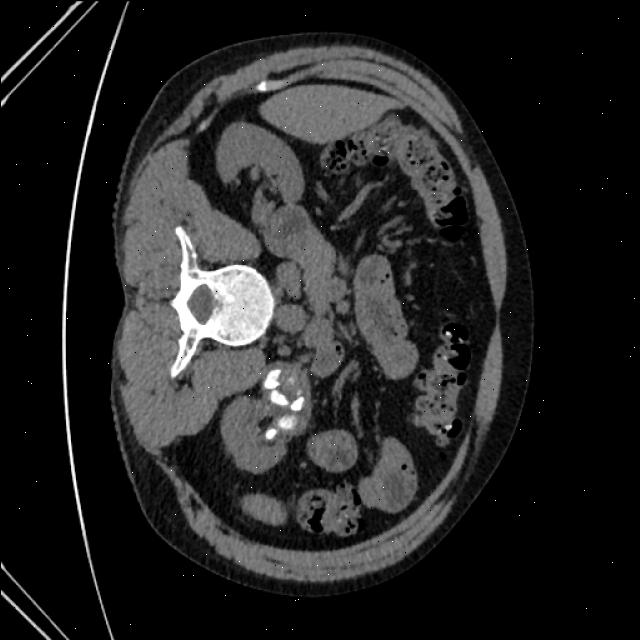kidneystone: (263, 370, 279, 390), (269, 390, 288, 406), (278, 415, 294, 430), (290, 396, 302, 410), (267, 430, 276, 438)
